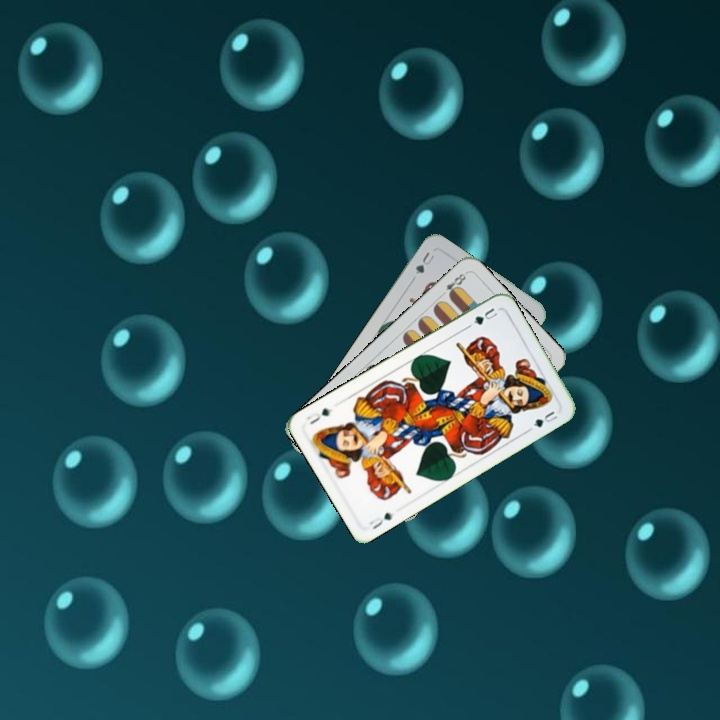E8: (436, 268, 469, 300)
GU: (464, 303, 500, 330), (411, 248, 437, 277), (365, 508, 395, 532)
